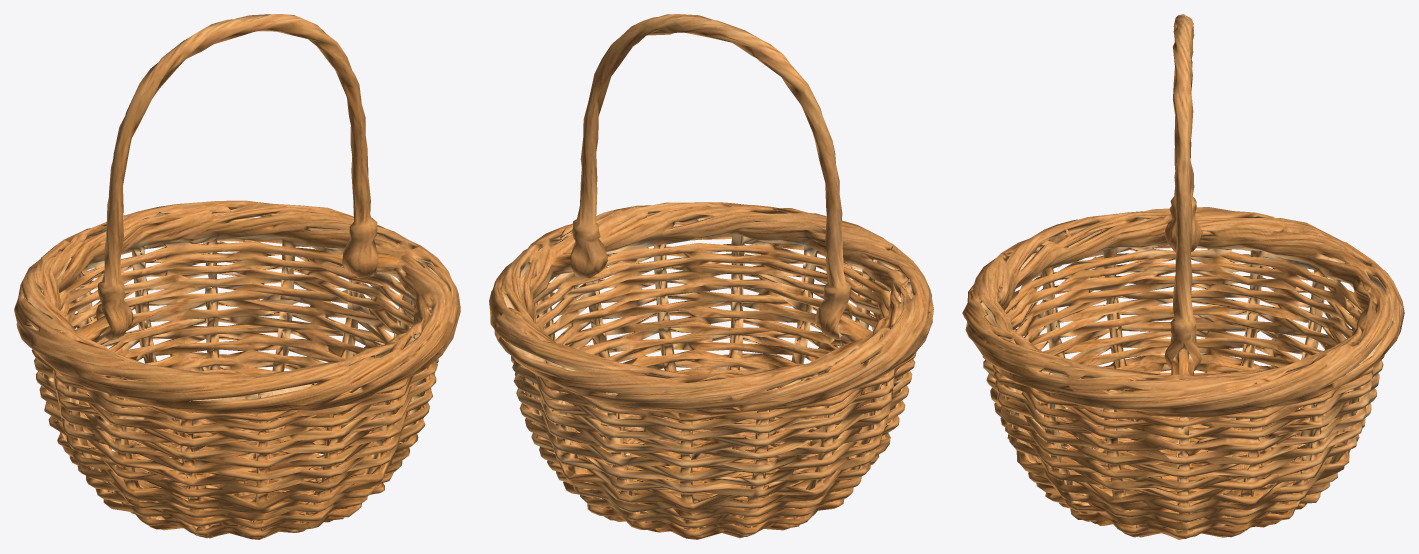
File: empty-basket.glb
3 views of the same model, side by side, from view 1: azimuth 30°, elevation 25°; view 2: azimuth 150°, elevation 25°; view 3: azimuth 270°, elevation 25° (orthographic). The views are drawn at different scales.
Parts seen in each view (by area): view 1: Mesh_0; view 2: Mesh_0; view 3: Mesh_0.
Boxes of the visible parts, left/top/right/bottom form: Mesh_0: left=14, top=14, right=460, bottom=539; Mesh_0: left=489, top=14, right=933, bottom=539; Mesh_0: left=962, top=14, right=1404, bottom=539.
Bounding box in the file's own units: 0.2143 × 0.25 × 0.2159.
Materials: 1 (1 with a texture image).
